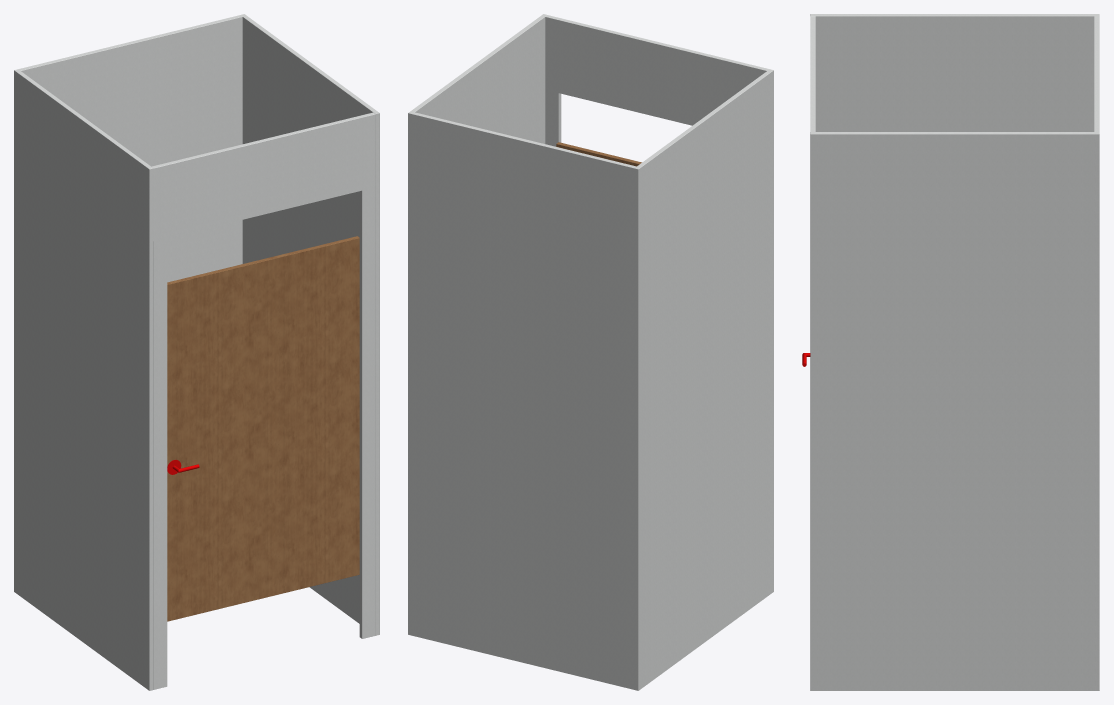
The model's file is Washroom.fbx.
3 views of the same model, side by side, from view 1: azimuth 30°, elevation 25°; view 2: azimuth 150°, elevation 25°; view 3: azimuth 270°, elevation 25° (orthographic). The views are drawn at different scales.
Parts seen in each view (by area): view 1: Washroom; view 2: Washroom; view 3: Washroom.
Part boxes in pixels (box(x1,y1,x2,y2)): Washroom: box(14, 14, 379, 690); Washroom: box(408, 14, 773, 690); Washroom: box(802, 14, 1099, 690).
Size of the model in its own units: 136 by 293 by 142.
